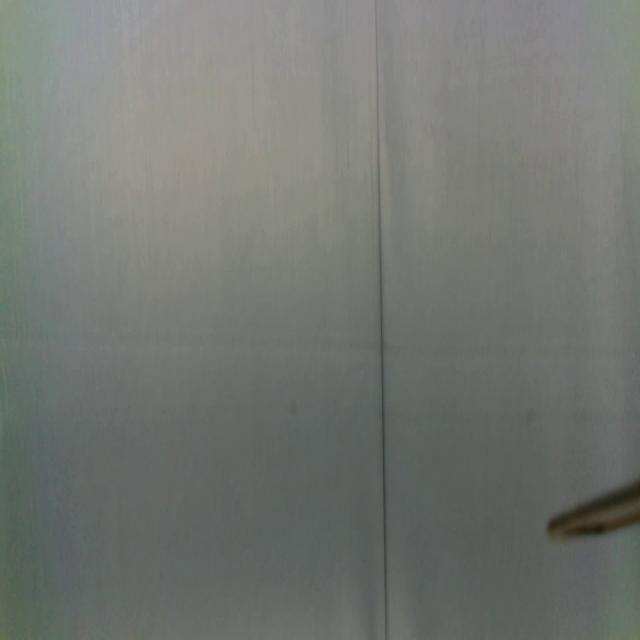color bleeding: (0, 315, 639, 372)
crease: (371, 0, 390, 640)
